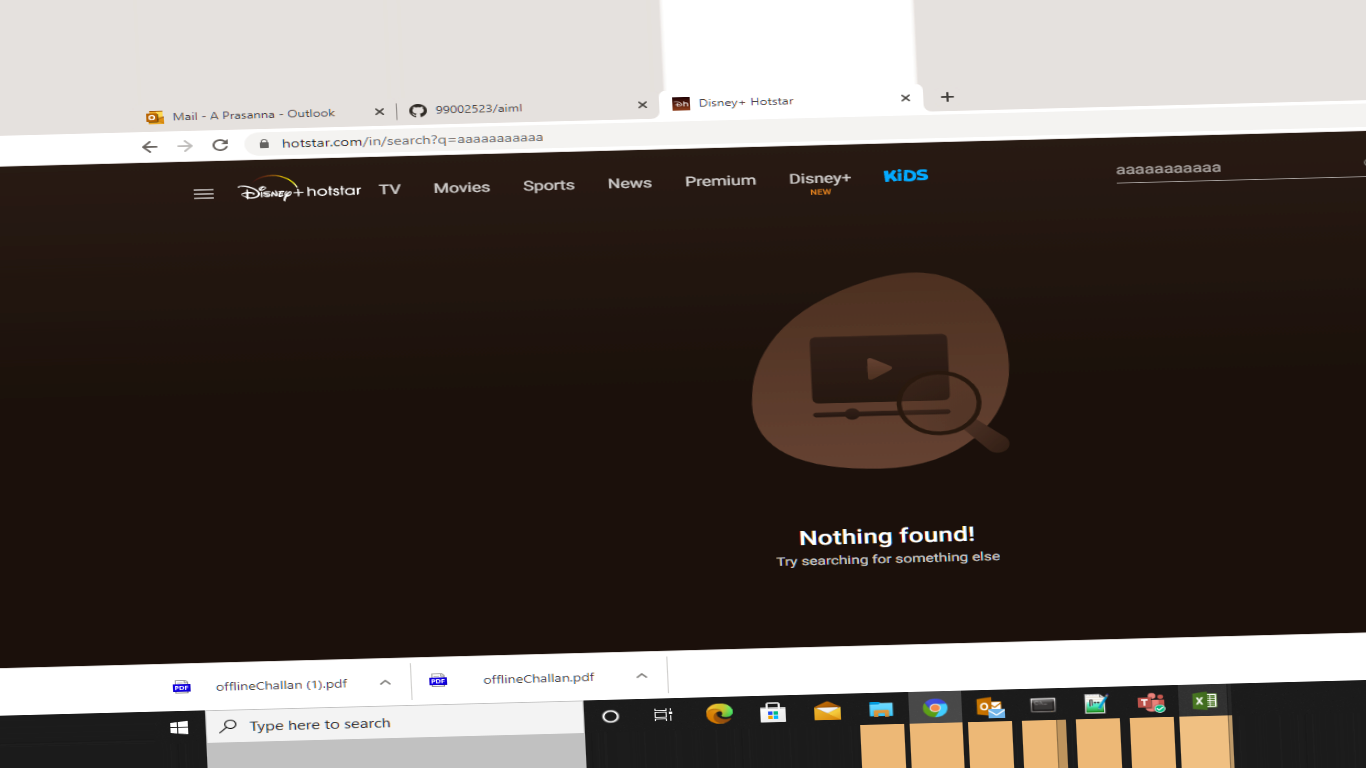noresultsfound: (725, 512, 1038, 579)
searchtextbox: (1103, 149, 1366, 201)
